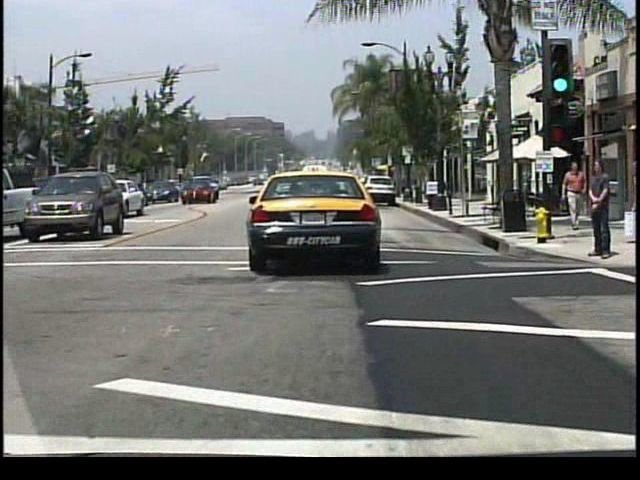person: (591, 156, 615, 262), (564, 160, 588, 230)
